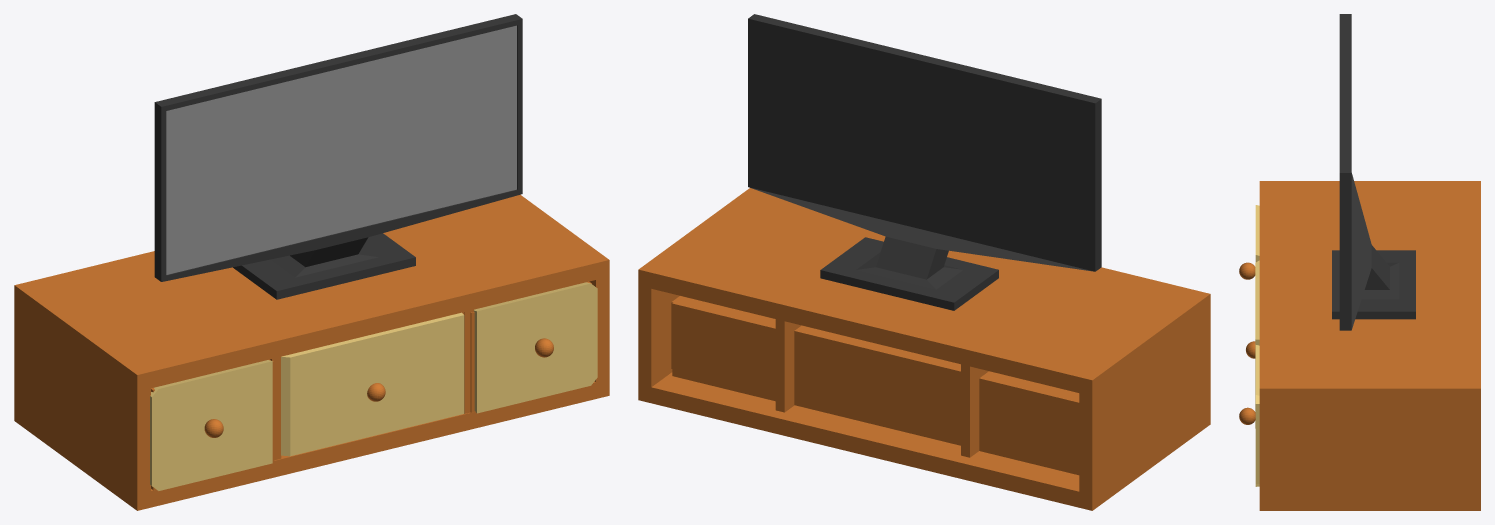
File: Tv kast.fbx
The picture shows the model from 3 angles, left to right: view 1: azimuth 30°, elevation 25°; view 2: azimuth 150°, elevation 25°; view 3: azimuth 270°, elevation 25°; orthographic projection. The views are drawn at different scales.
Parts seen in each view (by area): view 1: Cube.002, Cube; view 2: Cube.002, Cube; view 3: Cube.002, Cube.
Boxes of the visible parts, x1,y1,x2,y2 form: Cube.002: (14, 194, 609, 510); Cube: (154, 14, 522, 299); Cube.002: (638, 188, 1210, 510); Cube: (748, 14, 1101, 310); Cube.002: (1239, 181, 1480, 510); Cube: (1332, 14, 1415, 330).
Bounding box in the file's own units: 284 × 204 × 140.
